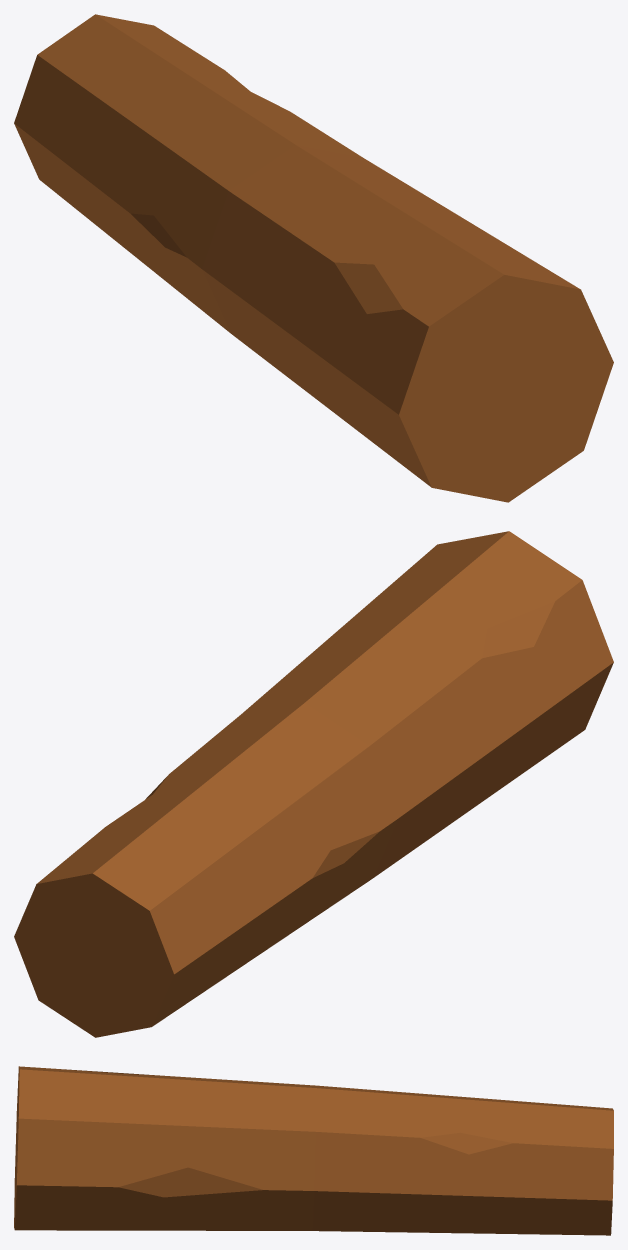
The model's file is log.fbx.
3 renders of one model, top to bottom at view 1: azimuth 30°, elevation 25°; view 2: azimuth 150°, elevation 25°; view 3: azimuth 270°, elevation 25°, orthographic. The views are drawn at different scales.
Parts seen in each view (by area): view 1: log; view 2: log; view 3: log.
Part boxes in pixels (left/top/right/bottom): log: left=14, top=14, right=613, bottom=502; log: left=14, top=531, right=613, bottom=1037; log: left=14, top=1066, right=613, bottom=1235.
Size of the model in its own units: 1.07 by 1.07 by 3.66.
